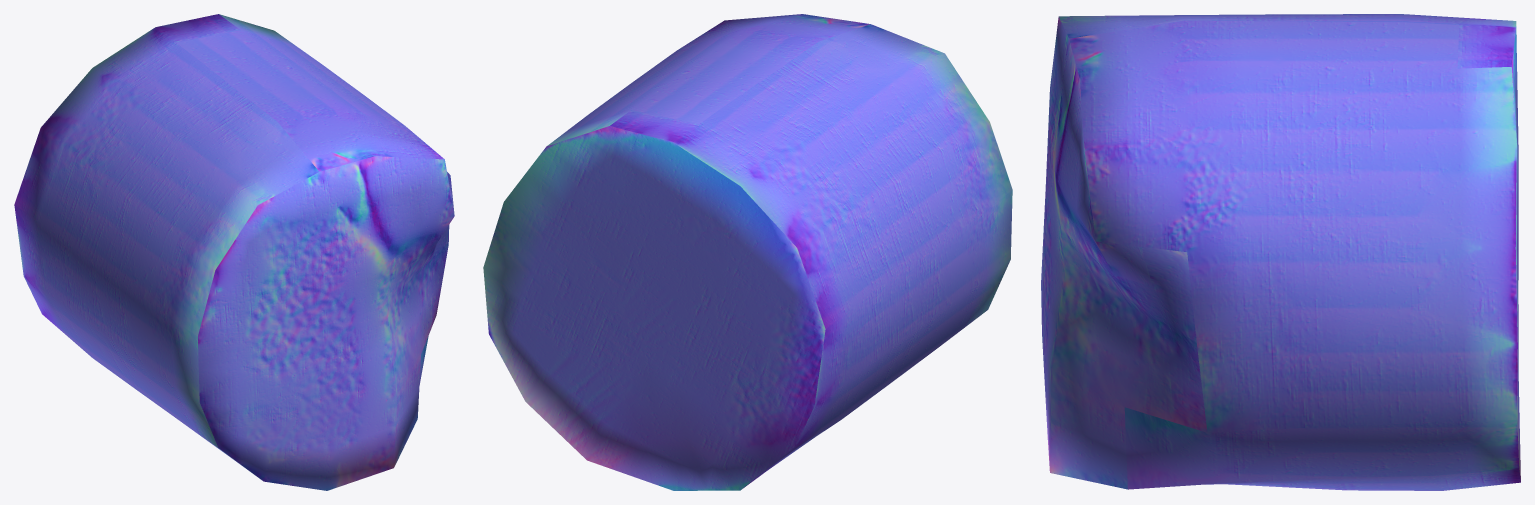
File: Pillar_Body_broken_lo3.fbx
The picture shows the model from 3 angles, left to right: view 1: azimuth 30°, elevation 25°; view 2: azimuth 150°, elevation 25°; view 3: azimuth 270°, elevation 25°; orthographic projection. The views are drawn at different scales.
Parts seen in each view (by area): view 1: Pillar_Body_broken_lo3; view 2: Pillar_Body_broken_lo3; view 3: Pillar_Body_broken_lo3.
Boxes of the visible parts, x1,y1,x2,y2 form: Pillar_Body_broken_lo3: (14, 14, 454, 490); Pillar_Body_broken_lo3: (483, 14, 1012, 490); Pillar_Body_broken_lo3: (1041, 14, 1520, 490).
Bounding box in the file's own units: 199 × 199 × 200.
